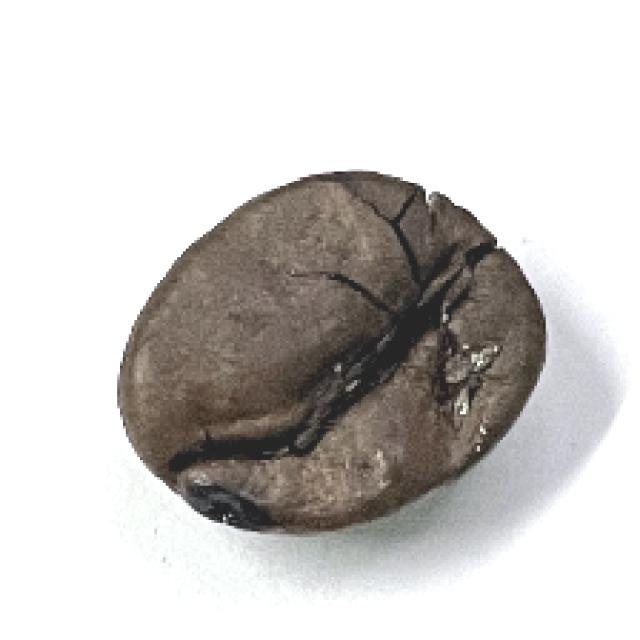bean: (114, 169, 547, 536)
